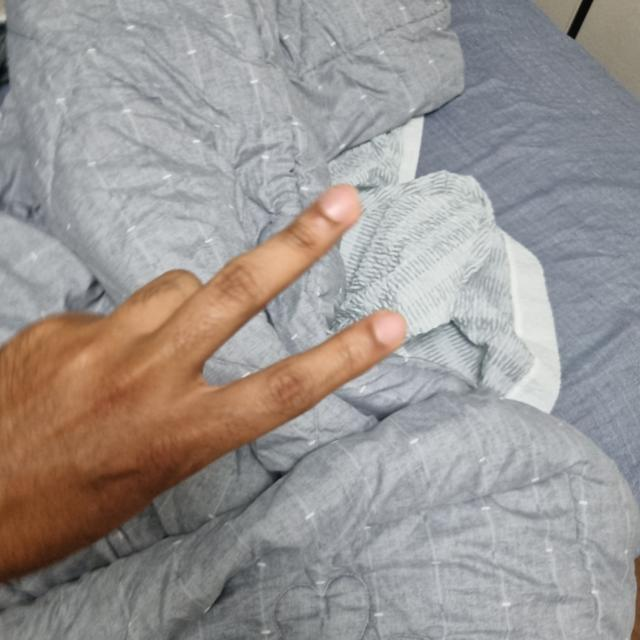Scissors: (0, 190, 401, 559)
